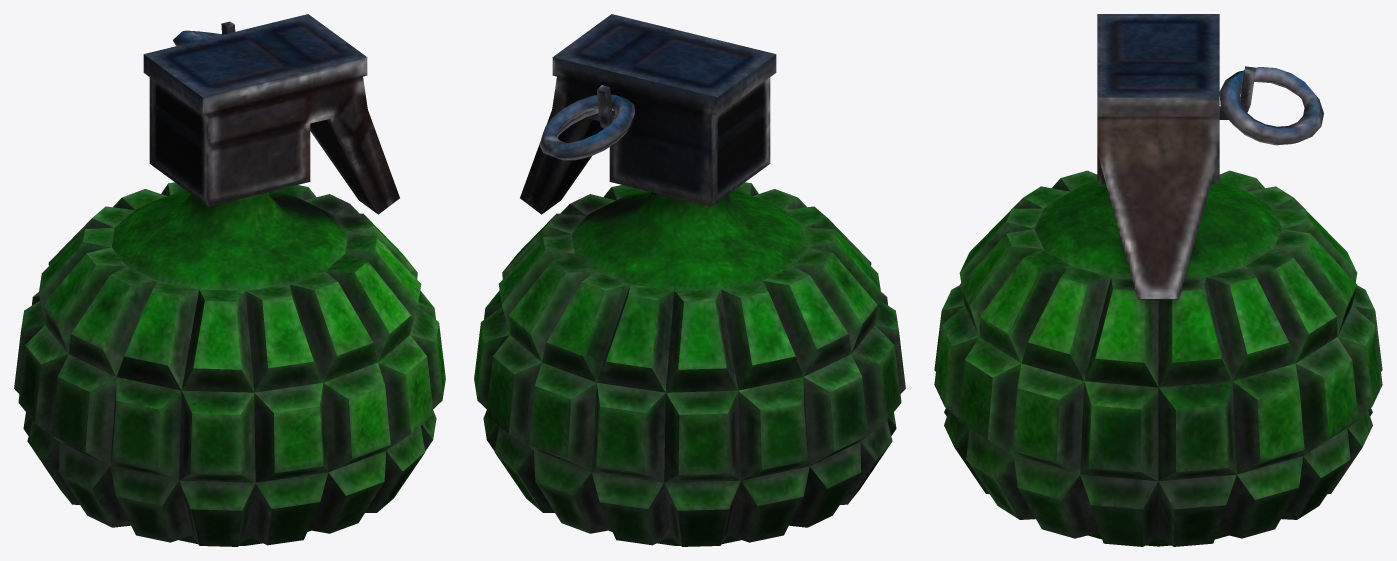
Rendered from frag_grenade_alt.glb.
3 renders of one model, left to right at view 1: azimuth 30°, elevation 25°; view 2: azimuth 150°, elevation 25°; view 3: azimuth 270°, elevation 25°, orthographic. The views are drawn at different scales.
Parts seen in each view (by area): view 1: nadevariant_low, nadevarianthaut_low; view 2: nadevariant_low, nadevarianthaut_low, nadevarianthaut_low.001; view 3: nadevariant_low, nadevarianthaut_low, nadevarianthaut_low.001.
Part boxes in pixels (x1,y1,x2,y2): nadevariant_low: (14, 182, 445, 546); nadevarianthaut_low: (143, 14, 399, 214); nadevariant_low: (474, 182, 905, 546); nadevarianthaut_low: (520, 14, 776, 214); nadevarianthaut_low.001: (539, 94, 635, 160); nadevariant_low: (934, 170, 1382, 546); nadevarianthaut_low: (1097, 14, 1255, 299); nadevarianthaut_low.001: (1219, 67, 1323, 145).
Bounding box in the file's own units: 0.1223 × 0.1413 × 0.1223.
Materials: 1 (1 with a texture image).
